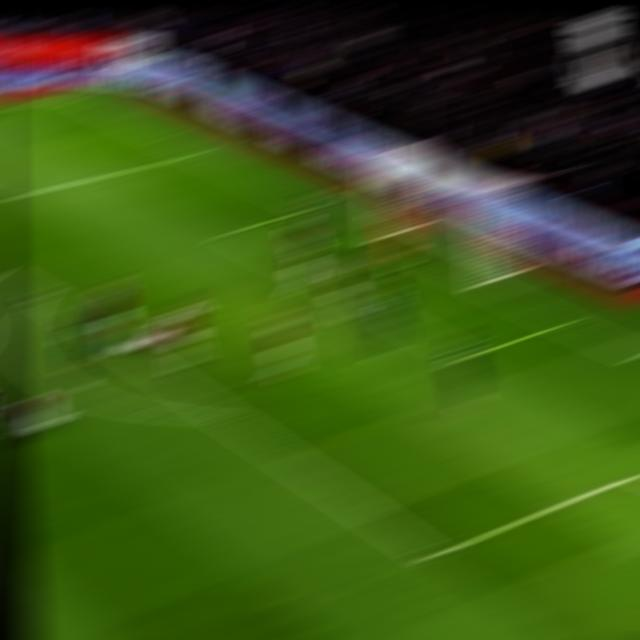bigarea_bottom_inner: (415, 543, 451, 571)
bigarea_top_outter: (184, 151, 210, 162)
bottom_arc_area_intersection: (206, 404, 242, 426)
corner: (58, 92, 88, 102)
smallarea_bottom_outter: (547, 313, 581, 333)
smallarea_top_inner: (216, 229, 241, 240)
top_arc_area_intersection: (27, 291, 57, 304)
